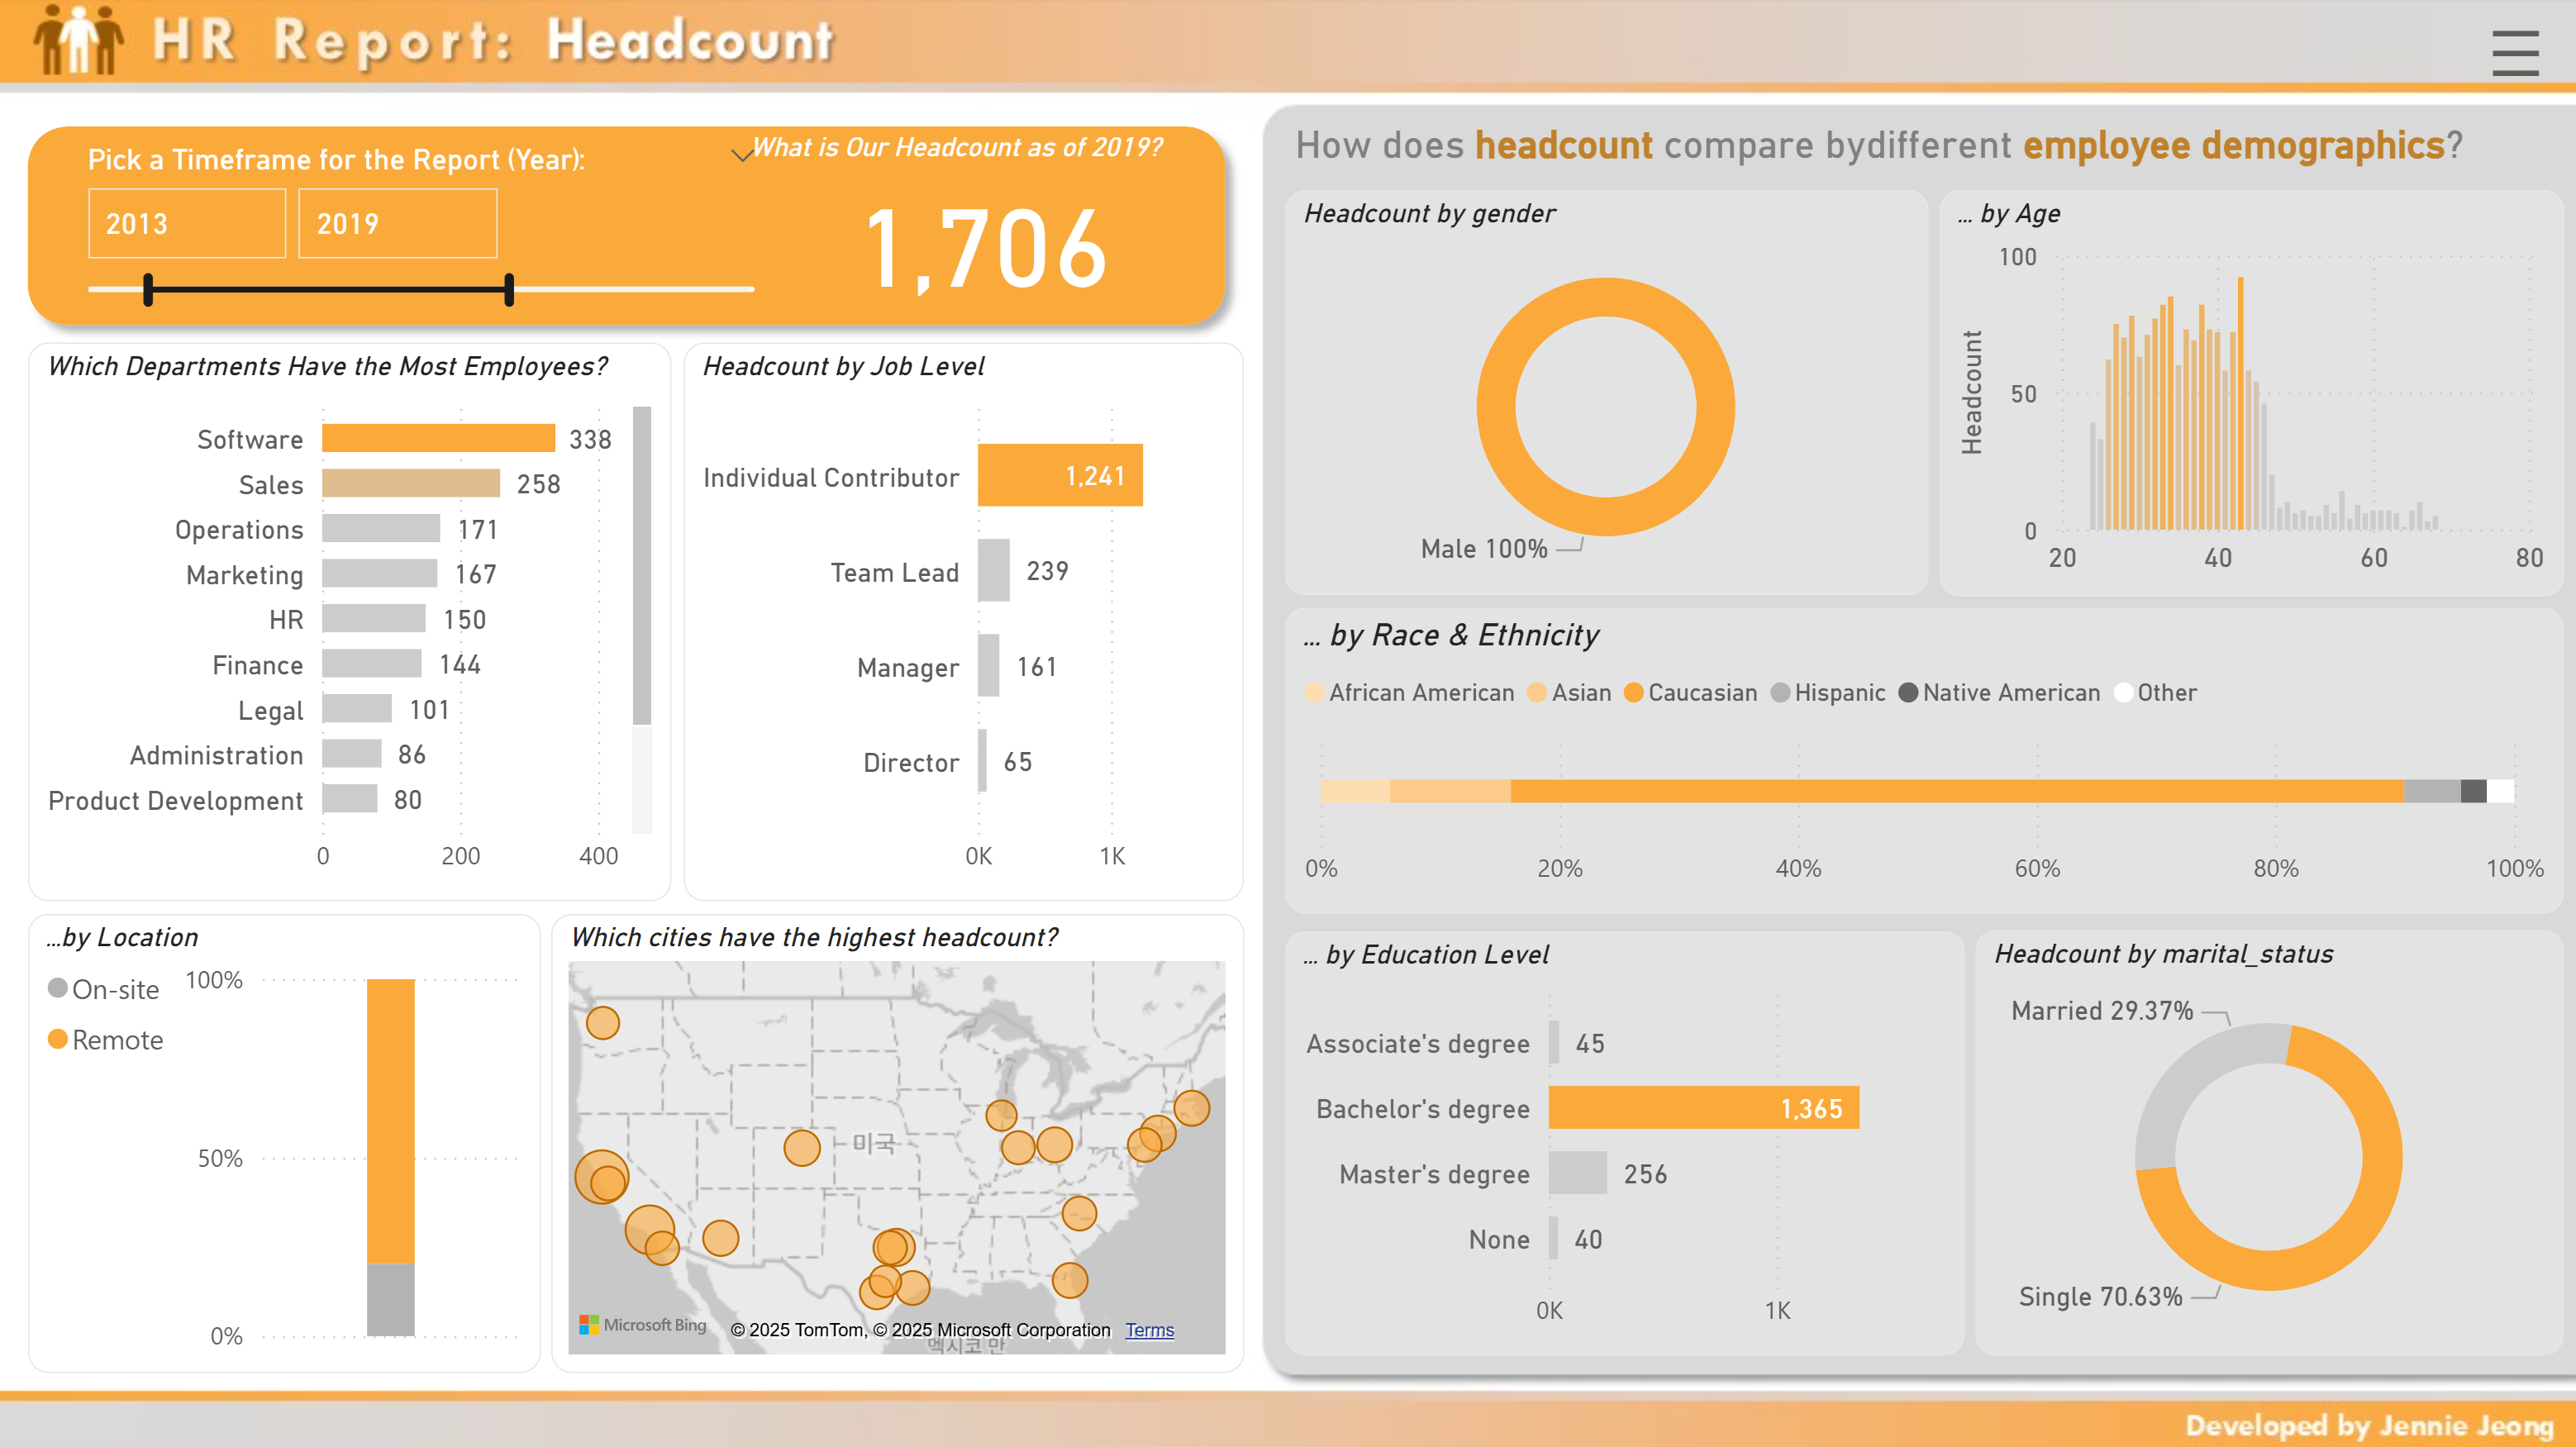

What the dashboard file says about the page in this screenshot:
{"tool":"powerbi","page":{"name":"Headcount","canvas":[1280,720],"ordinal":1},"visuals":[{"type":"shape","box":[8,55.2,611.2,116.4],"z":0},{"type":"card","title":"What is Our Headcount as of 2019?","fields":{"Values":["_Measures.Headcount"]},"box":[369.8,67.2,240.1,86.5],"z":1000},{"type":"slicer","fields":{"Values":["Date.Year"]},"box":[33.9,67.2,356.5,86.5],"z":2000},{"type":"clusteredBarChart","title":"Which Departments Have the Most Employees?","fields":{"Y":["_Measures.Headcount"],"Category":["department_dim.department","department_dim.sub-department"]},"box":[17.3,171.6,318.6,276.7],"z":3000},{"type":"clusteredBarChart","title":"Headcount by Job Level","fields":{"Y":["_Measures.Headcount"],"Category":["job_level_dim.job_level"]},"box":[341.8,171.6,277.3,276.7],"z":4000},{"type":"hundredPercentStackedColumnChart","title":"...by Location","fields":{"Y":["_Measures.Headcount"],"Series":["location_dim.location"]},"box":[17.3,454.2,254.1,227.4],"z":5000},{"type":"map","title":"Which cities have the highest headcount?","fields":{"Category":["location_dim.location_city"],"Size":["_Measures.Headcount"]},"box":[276,454.2,343.2,227.4],"z":6000},{"type":"donutChart","fields":{"Category":["demographic_dim.gender"],"Y":["_Measures.Headcount"]},"box":[639.8,95.8,318.6,200.8],"z":7000},{"type":"hundredPercentStackedBarChart","title":"... by Race & Ethnicity","fields":{"Y":["_Measures.Headcount"],"Series":["demographic_dim.race"]},"box":[639.8,302.6,633.1,151.6],"z":8000},{"type":"clusteredColumnChart","title":"... by Age","fields":{"Category":["demographic_dim.age"],"Y":["_Measures.Headcount"]},"box":[963.7,95.8,309.3,201.5],"z":9000},{"type":"clusteredBarChart","title":"... by Education Level","fields":{"Category":["education_dim.education"],"Y":["_Measures.Headcount"]},"box":[639.8,462.9,336.5,210.2],"z":10000},{"type":"donutChart","fields":{"Y":["_Measures.Headcount"],"Category":["marital_dim.marital_status"]},"box":[981.6,462.2,291.3,210.8],"z":11000},{"type":"textbox","box":[639.8,56.5,637.1,39.2],"z":12000},{"type":"actionButton","box":[1218.6,0,61.4,51.6],"z":13000}]}

Visuals, with their boxes in screenshot pixels (x1, y1, x2, y2), scaled from the page's 1280x720 canvas onto the 2576x1447 screenshot:
shape: box=[16, 111, 1246, 345]
"What is Our Headcount as of 2019?" card: box=[745, 135, 1227, 309]
slicer - Date.Year: box=[69, 135, 786, 309]
"Which Departments Have the Most Employees?" clusteredBarChart: box=[35, 345, 676, 901]
"Headcount by Job Level" clusteredBarChart: box=[688, 345, 1246, 901]
"...by Location" hundredPercentStackedColumnChart: box=[35, 913, 546, 1370]
"Which cities have the highest headcount?" map: box=[555, 913, 1246, 1370]
donutChart - demographic_dim.gender x _Measures.Headcount: box=[1288, 193, 1929, 596]
"... by Race & Ethnicity" hundredPercentStackedBarChart: box=[1288, 608, 2562, 913]
"... by Age" clusteredColumnChart: box=[1940, 193, 2562, 597]
"... by Education Level" clusteredBarChart: box=[1288, 931, 1964, 1353]
donutChart - _Measures.Headcount x marital_dim.marital_status: box=[1975, 929, 2562, 1353]
textbox: box=[1288, 113, 2569, 193]
actionButton: box=[2452, 0, 2575, 103]
